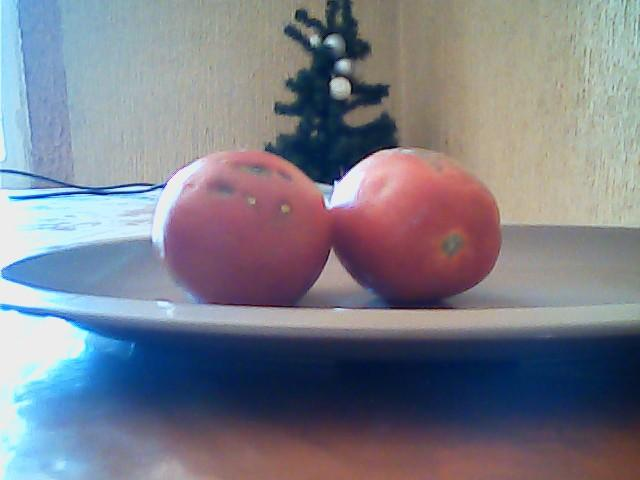defectuoso: (153, 150, 331, 304), (329, 148, 504, 304)
